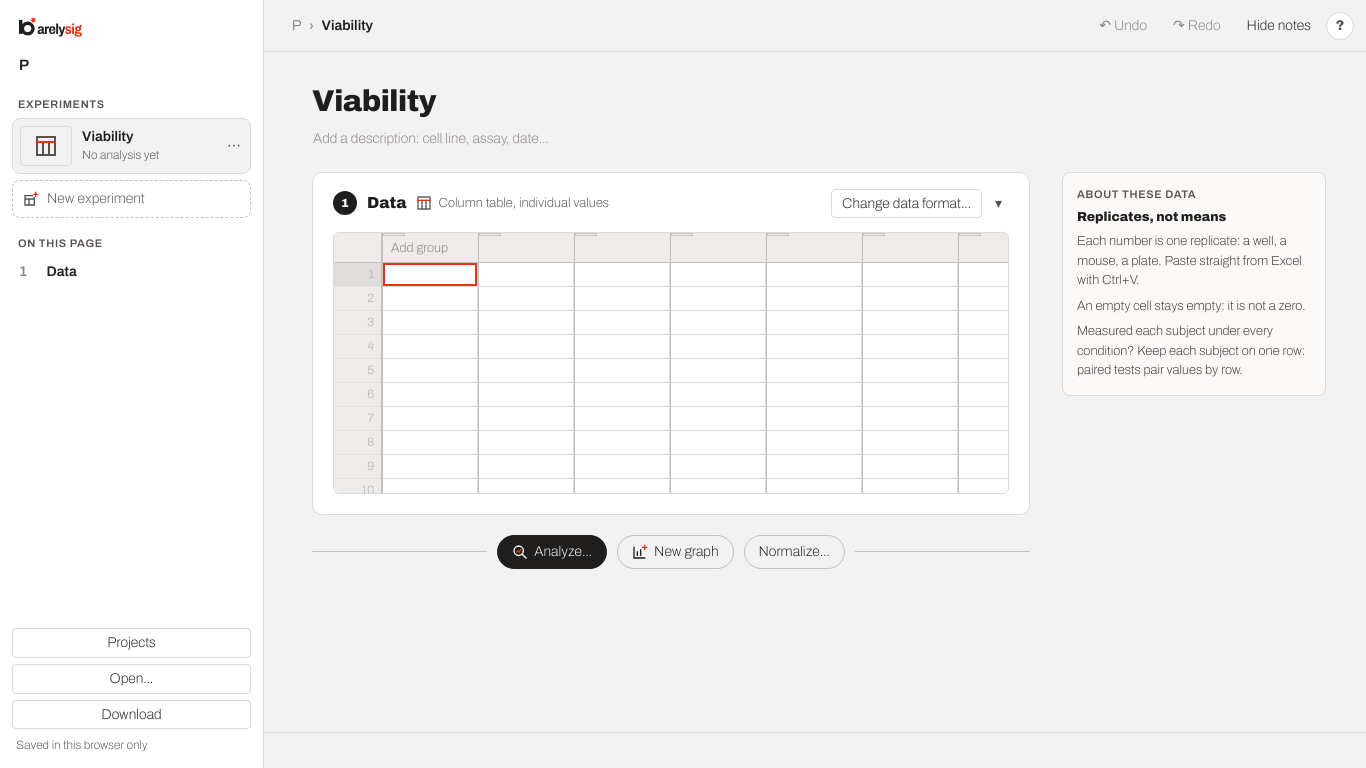
Test: DataGrid › names a group from the title row
The image size is (1366, 768).
Step 1. Press ArrowUp in the table named "Viability data", box left=334, top=233, right=1008, bottom=493
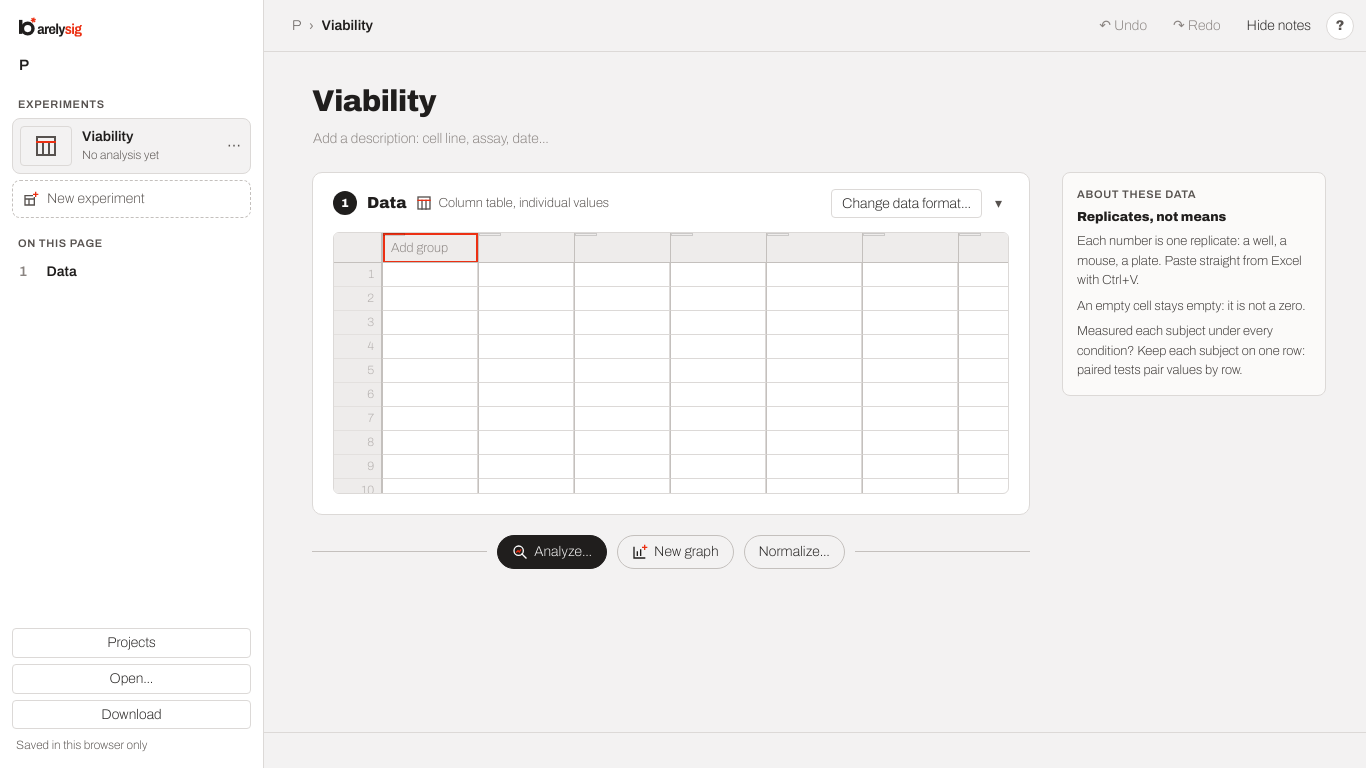
Step 2. Press W in the table named "Viability data", box left=334, top=233, right=1008, bottom=493
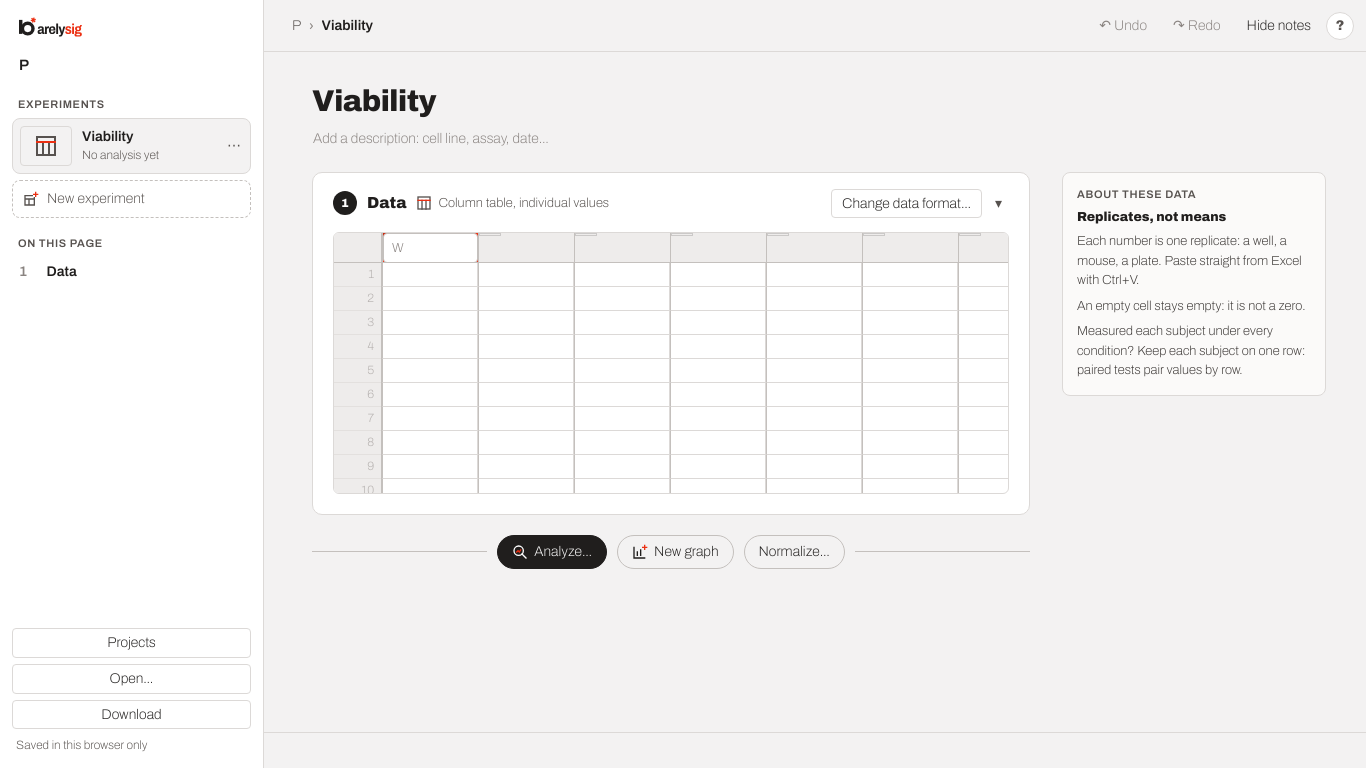
Step 3. Replace the text in the field with "Wild type" → (430, 248), box left=383, top=233, right=478, bottom=263
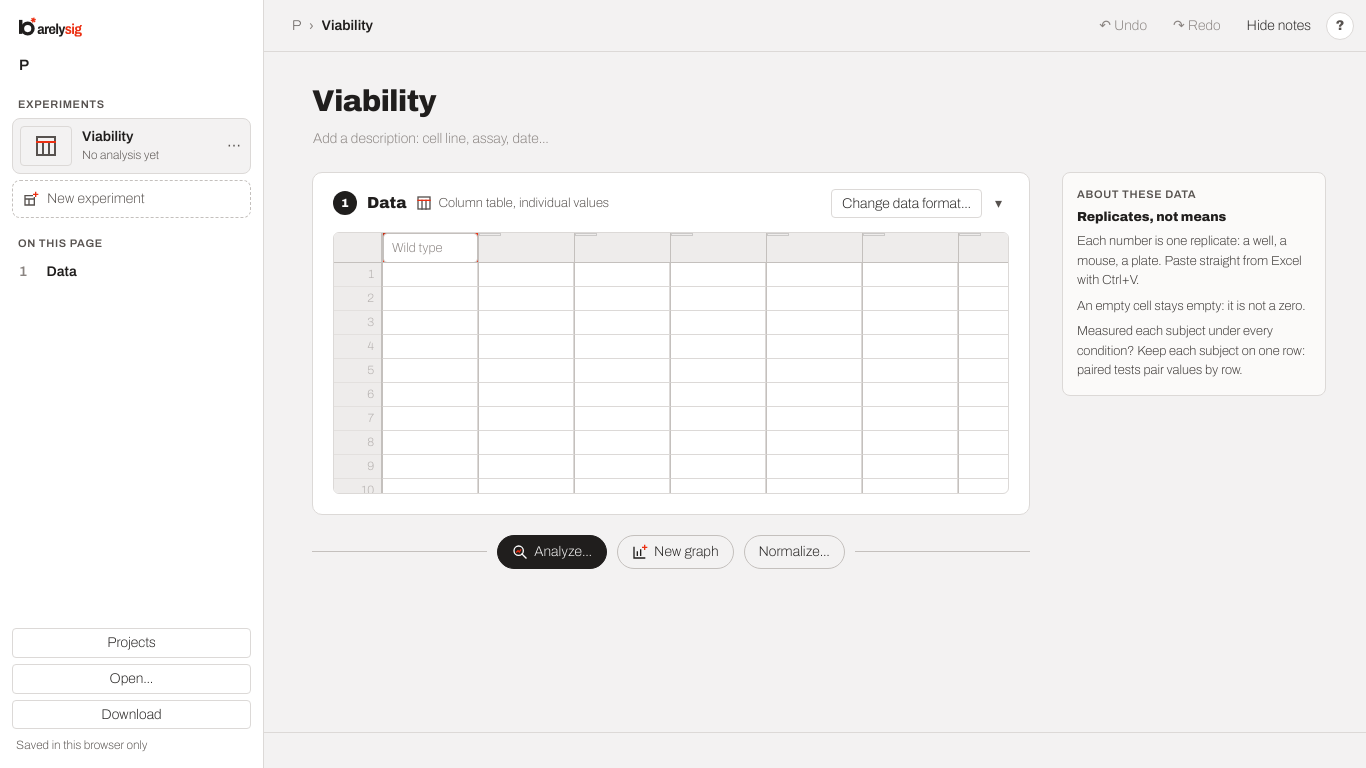
Step 4. Press Enter in the field, box left=383, top=233, right=478, bottom=263
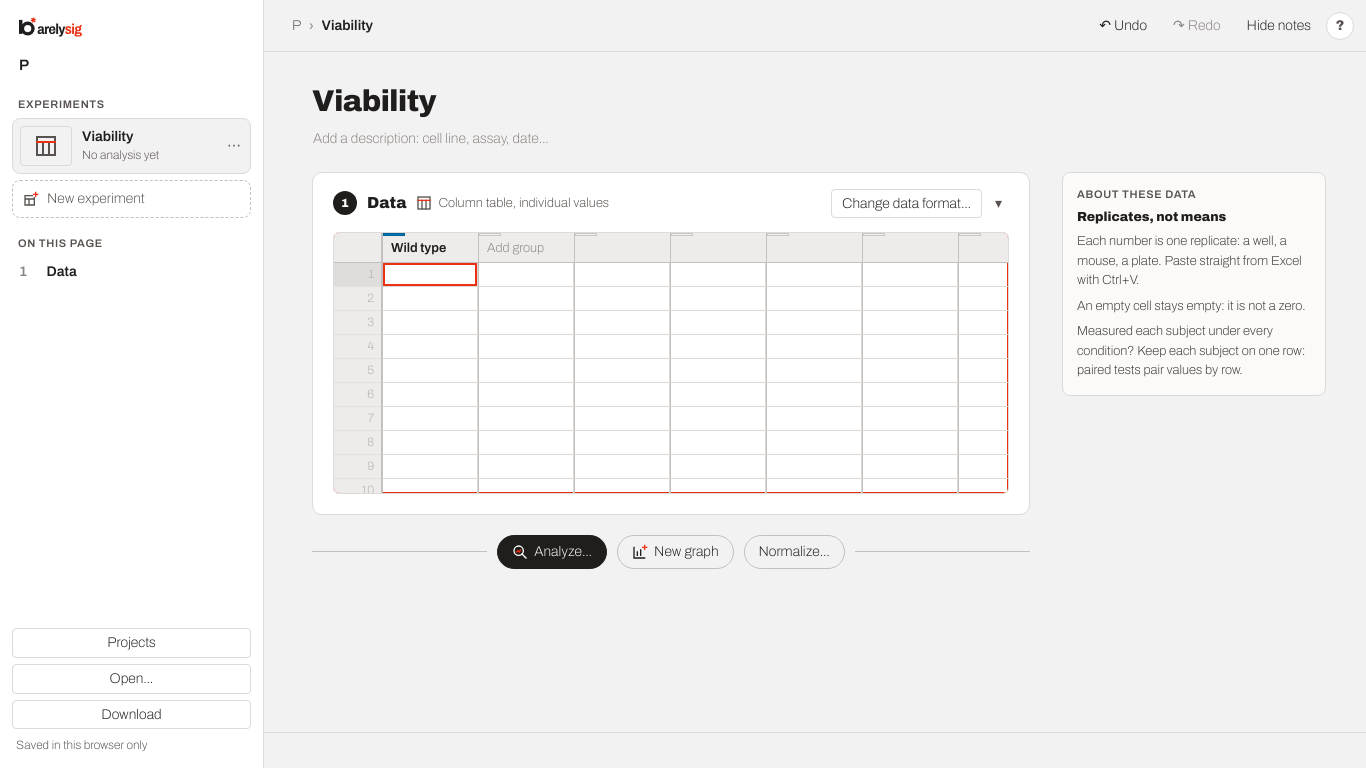
Check: the column heading "Wild type" is shown, box left=382, top=233, right=478, bottom=263
